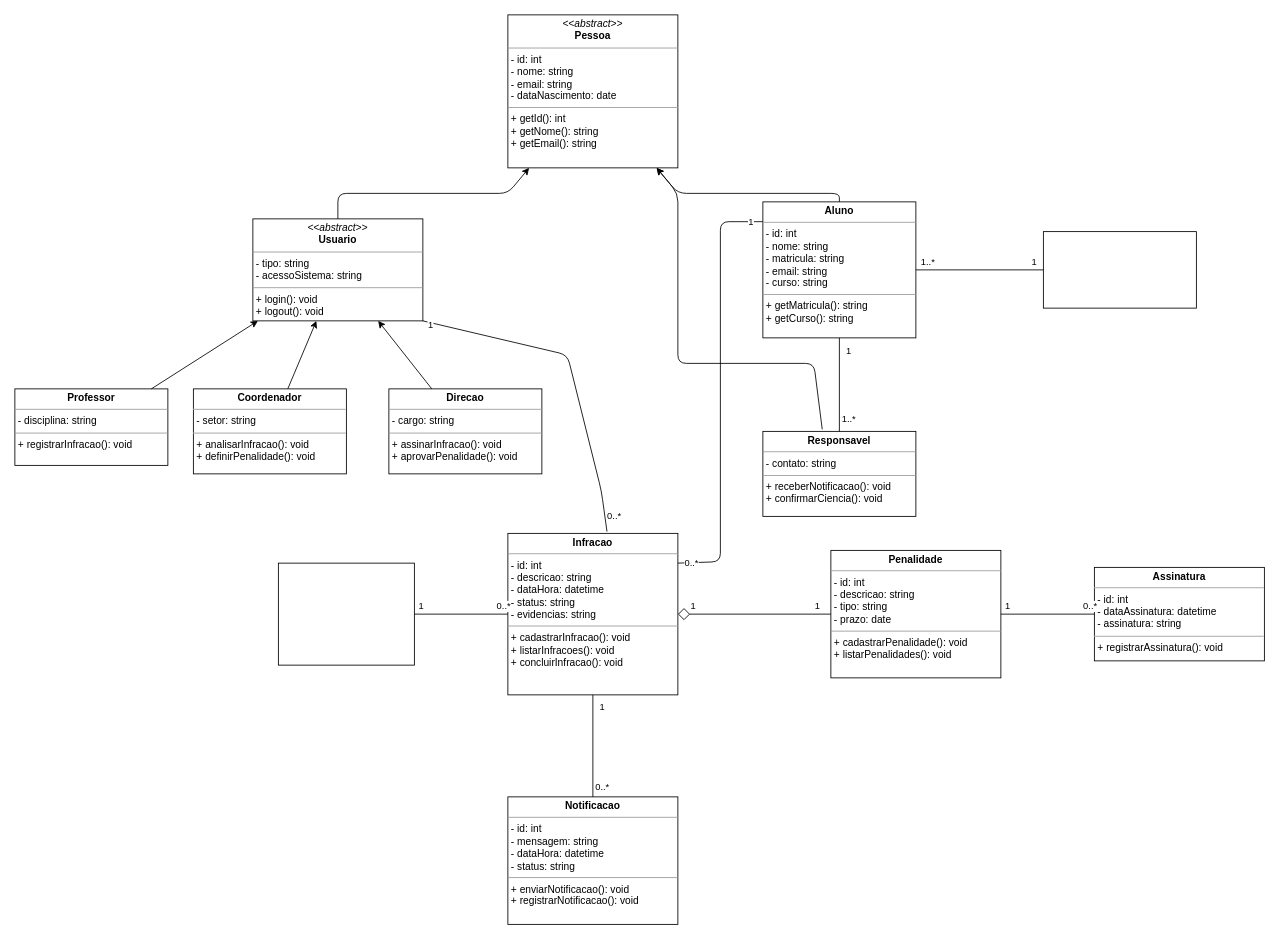
Some shapes in this 1279 by 939 pixel diagram are drawn without their labels. The shapes that lost their labels are listed below. From the top down, each one's box as (x1, y1, x2, y2) in pixels, then its label:
(1043, 231, 1196, 308): Curso - nome: string - sigla: string + getCursoNome(): string
(278, 562, 414, 665): <<enumeration>> TipoInfracao LEVE MEDIA GRAVE GRAVISSIMA
